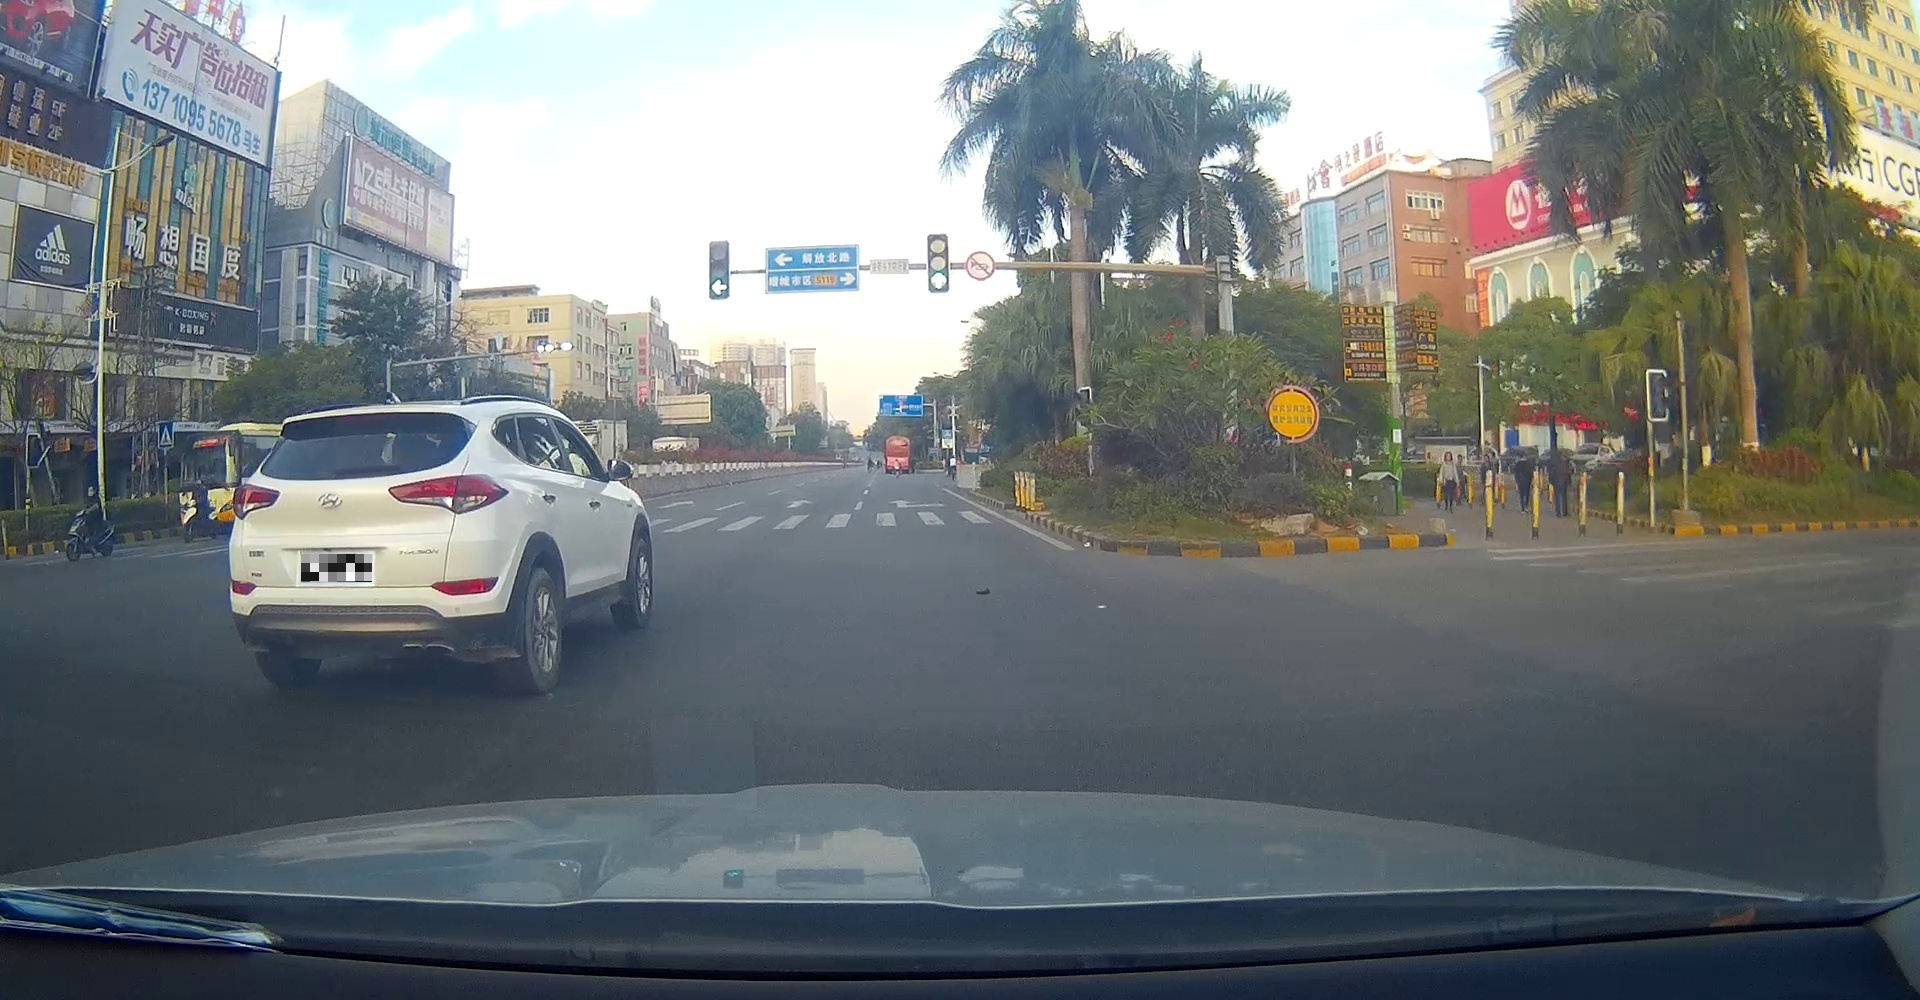L_light: (232, 484, 279, 520)
R_light: (389, 475, 510, 514)
T_light: (338, 414, 383, 421)
day-no: (229, 393, 510, 694)
plate_1: (301, 555, 372, 582)
